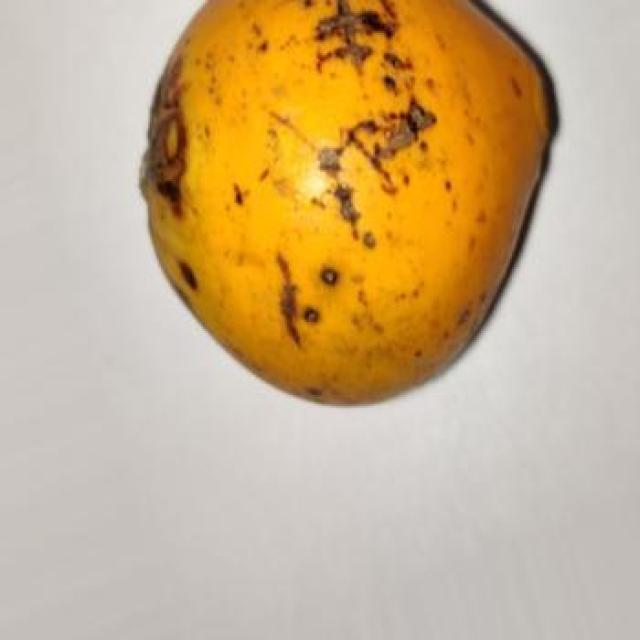good: (137, 0, 560, 410)
